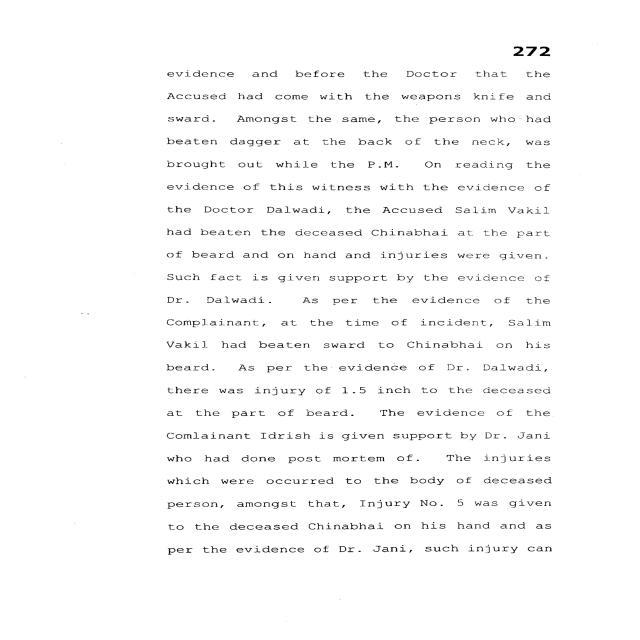page-number: (435, 0, 634, 61)
